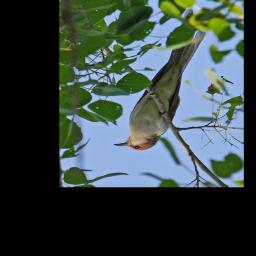Cuckoo: (113, 8, 210, 152)
